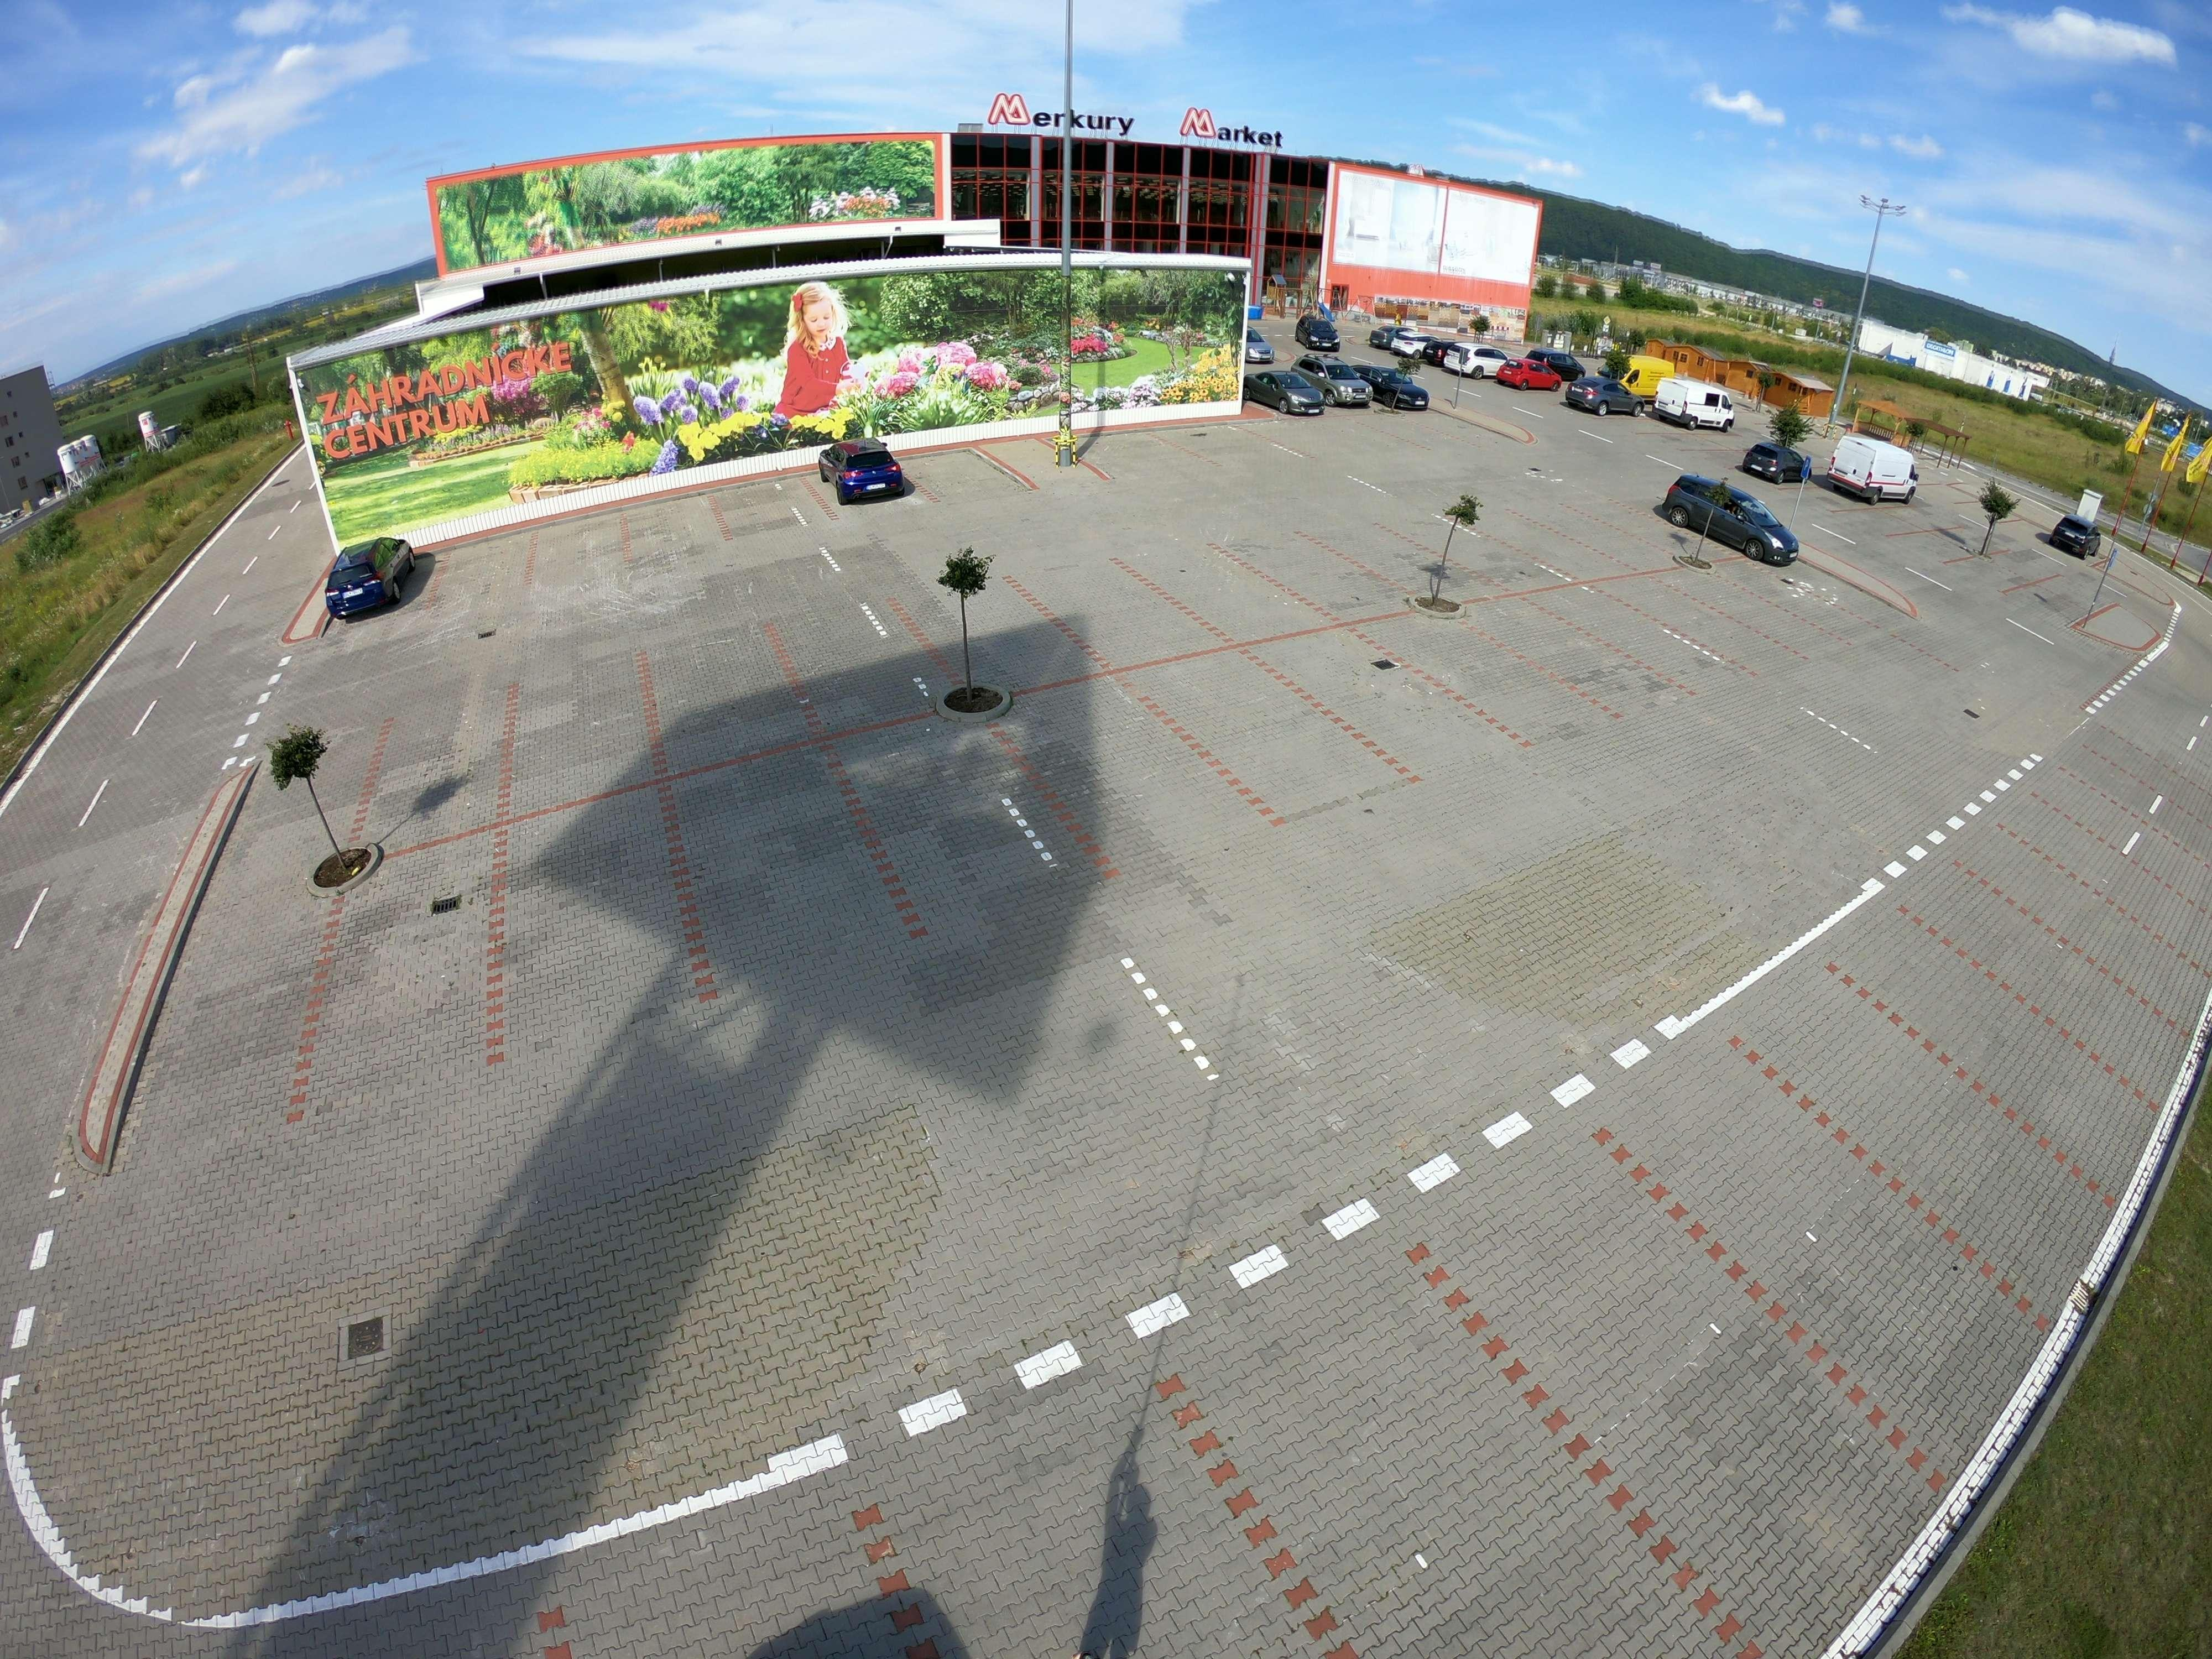empty: (1667, 479, 1820, 566), (317, 526, 435, 622), (1813, 423, 1935, 505), (813, 434, 916, 509), (2034, 498, 2114, 570), (1648, 373, 1743, 432), (1240, 368, 1334, 420), (1353, 356, 1440, 411), (1555, 371, 1632, 425), (1306, 356, 1379, 408), (1738, 429, 1808, 483)
occupied: (1256, 1363, 1526, 1535), (1529, 1215, 1728, 1434), (507, 852, 691, 995), (315, 927, 493, 1054), (1686, 1108, 1834, 1248), (700, 800, 834, 920), (514, 683, 650, 793), (658, 659, 780, 767), (371, 741, 493, 847), (1825, 1042, 1944, 1150), (883, 774, 1028, 849), (810, 631, 907, 730), (1193, 680, 1320, 755), (965, 605, 1089, 681), (1059, 720, 1176, 793), (1892, 971, 2001, 1047), (1325, 653, 1444, 720), (1458, 626, 1566, 690), (439, 547, 547, 598), (1075, 591, 1167, 647), (1972, 924, 2052, 986), (2027, 885, 2107, 943), (1174, 568, 1261, 617), (559, 518, 646, 566), (1275, 556, 1357, 603), (730, 481, 806, 526), (1531, 532, 1601, 580), (1378, 532, 1439, 586), (644, 498, 711, 547), (925, 464, 1000, 504), (1003, 443, 1076, 477), (1639, 594, 1689, 622)
